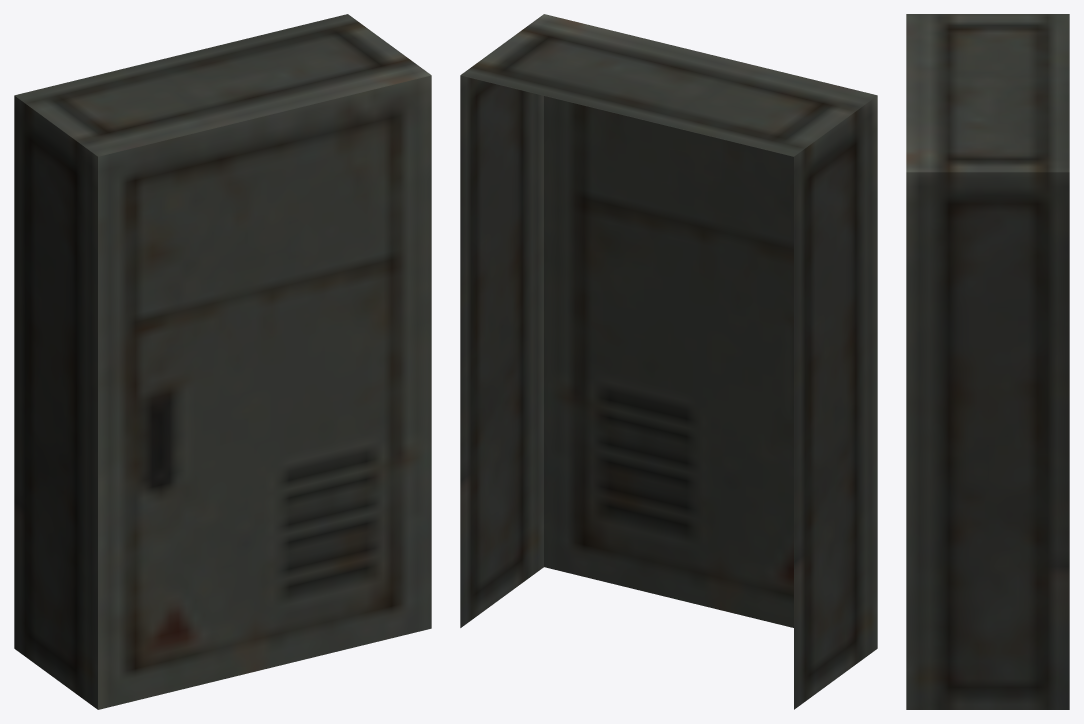
File: Stage-gongchang-xiaodianxiang.FBX
3 renders of one model, left to right at view 1: azimuth 30°, elevation 25°; view 2: azimuth 150°, elevation 25°; view 3: azimuth 270°, elevation 25°, orthographic. The views are drawn at different scales.
Parts seen in each view (by area): view 1: Object57; view 2: Object57; view 3: Object57.
Part boxes in pixels (x1,y1,x2,y2): Object57: [14, 14, 431, 709]; Object57: [460, 14, 877, 709]; Object57: [906, 14, 1069, 709].
Bounding box in the file's own units: 0.8592 × 0.3743 × 1.36.
